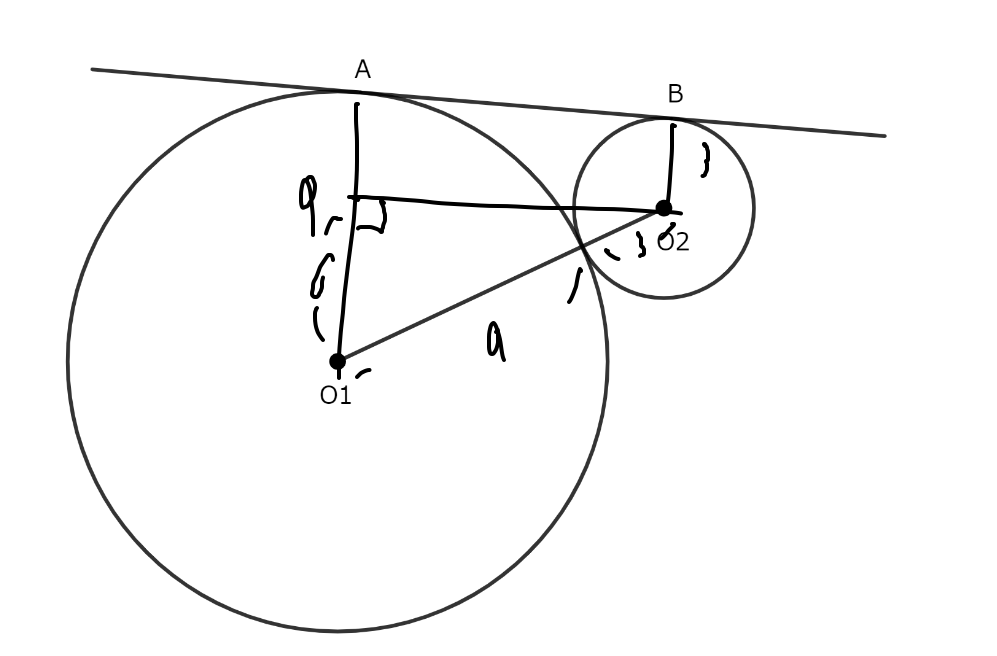Angle_Right: (355, 196, 388, 237)
